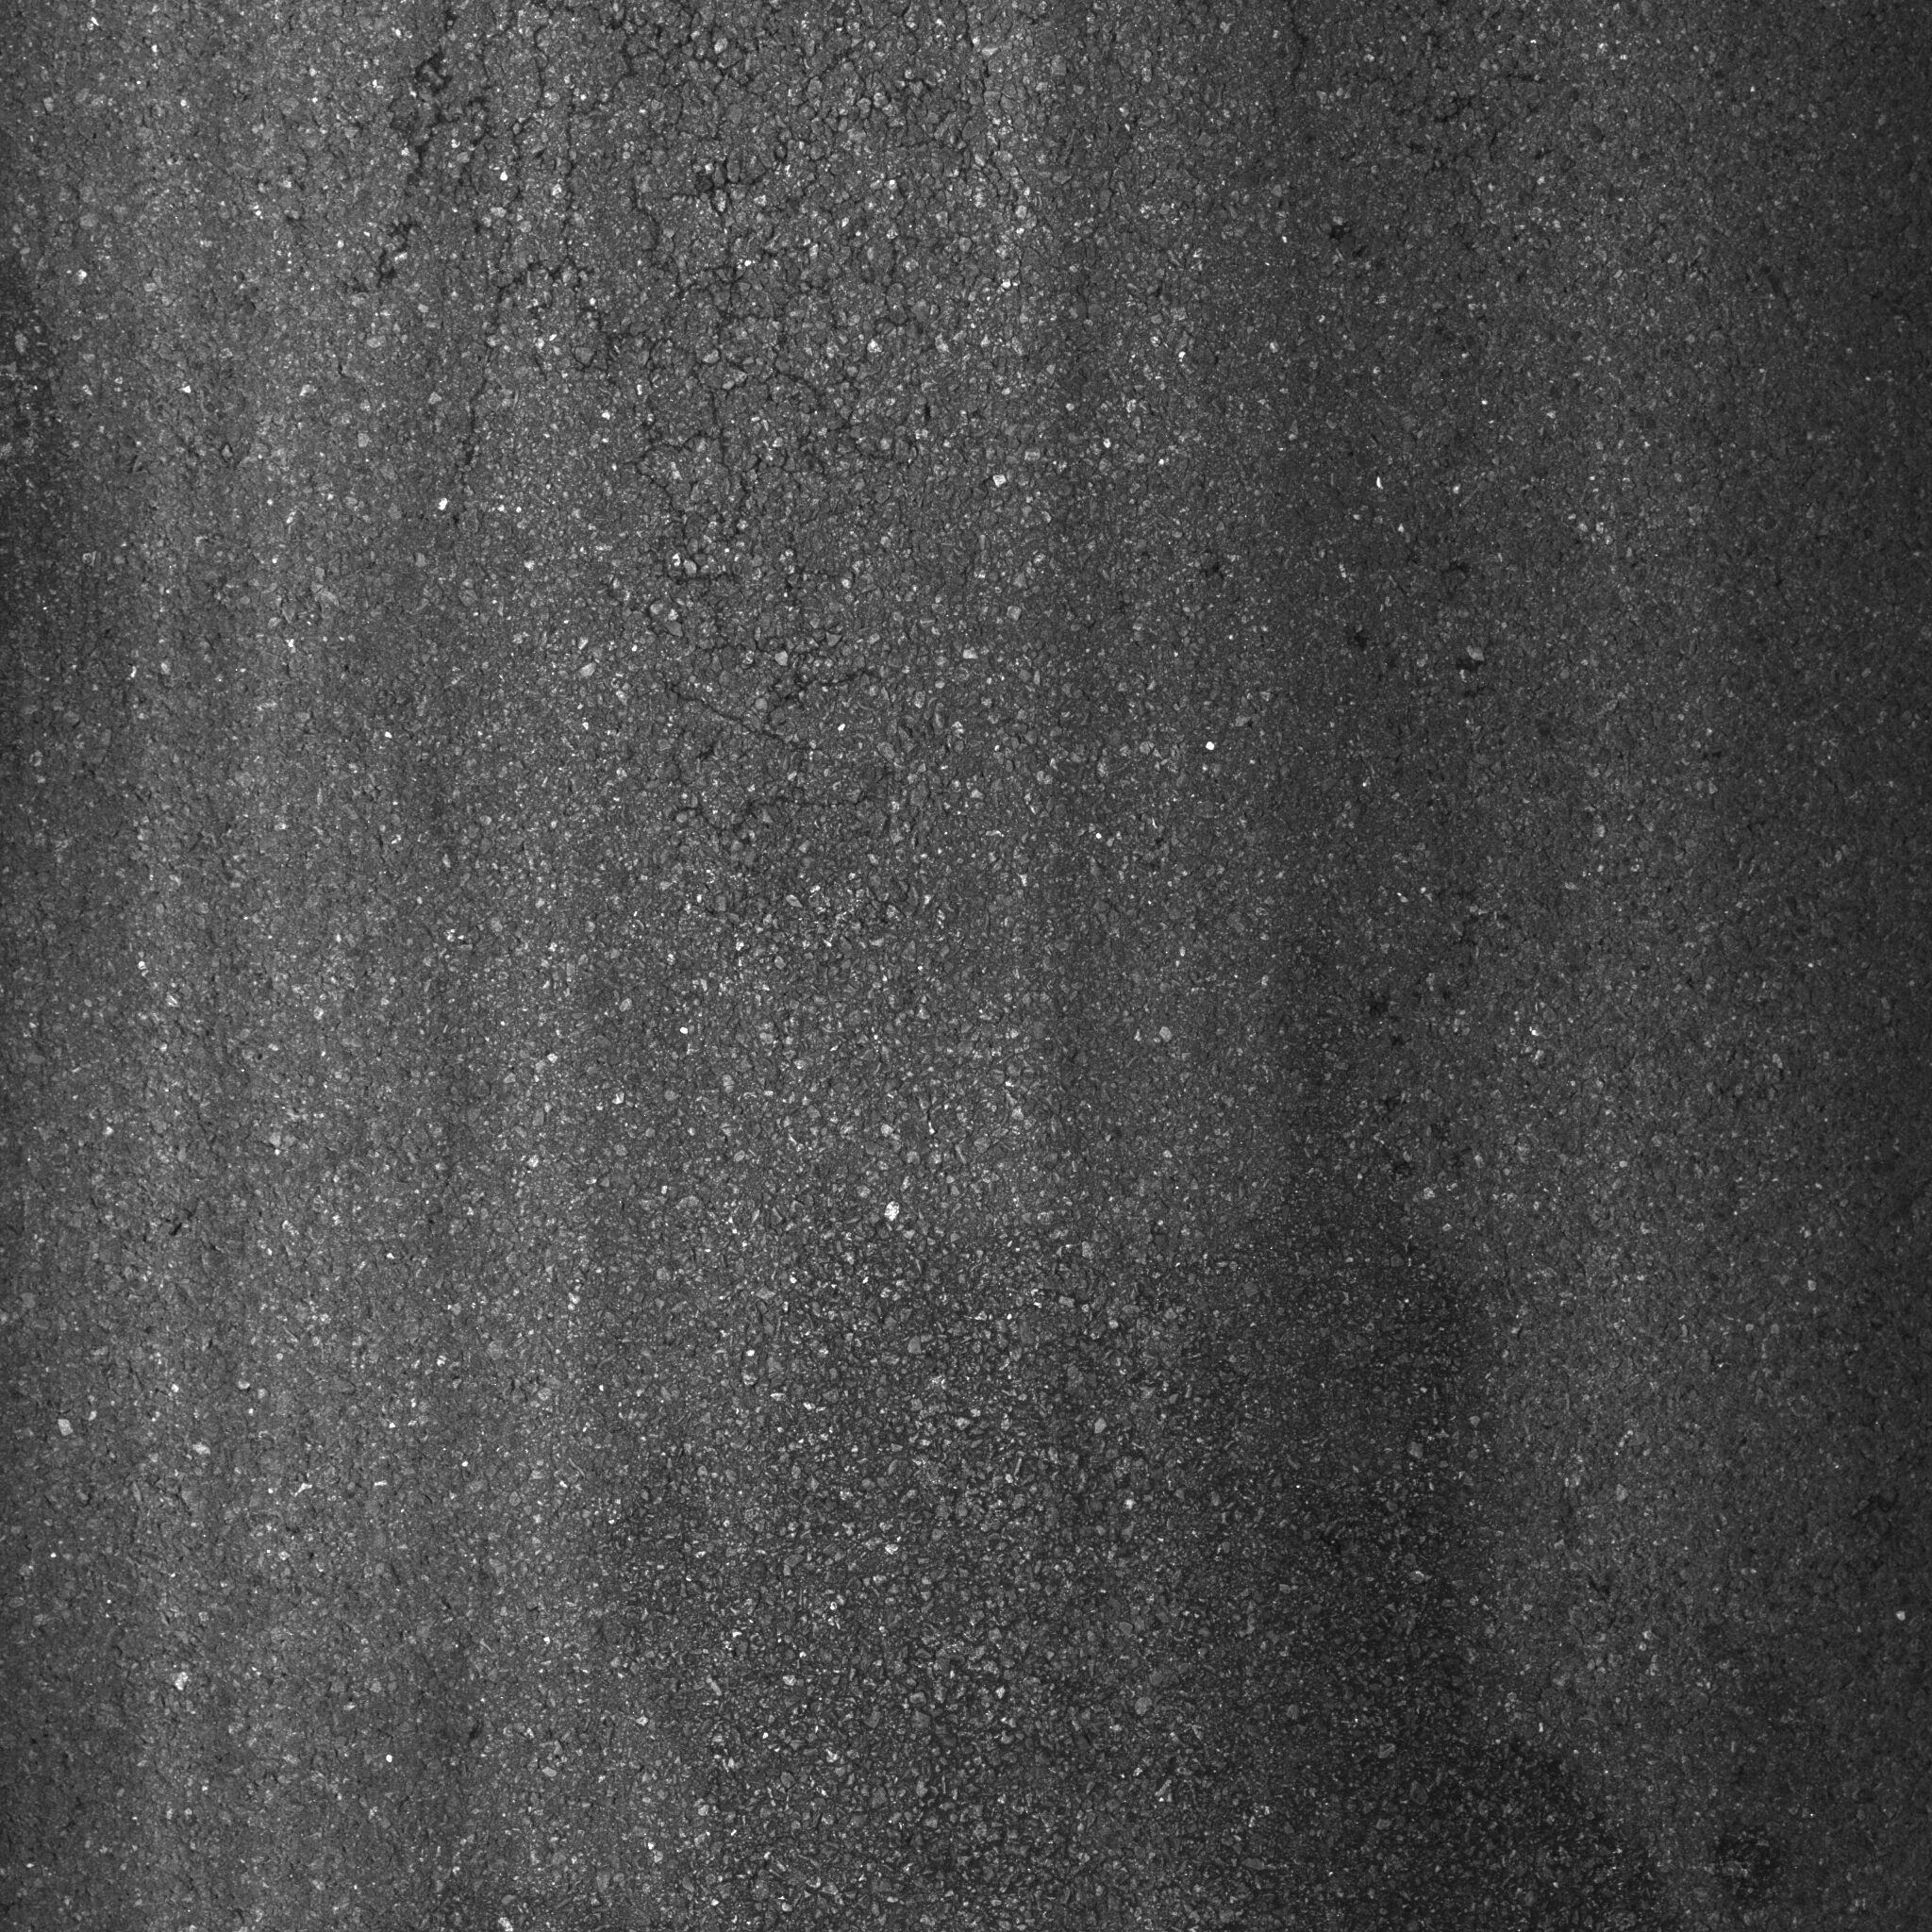alligator: (262, 4, 1060, 876)
